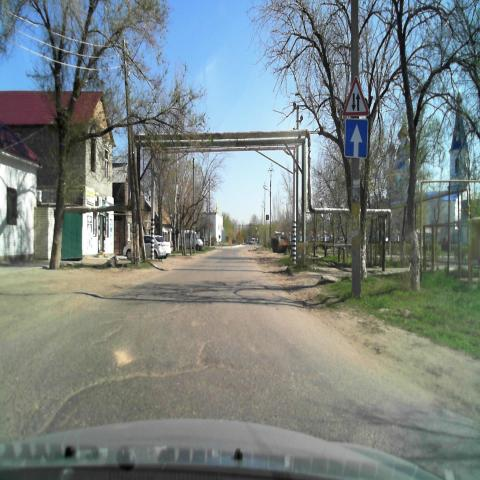1_21: (344, 74, 370, 115)
